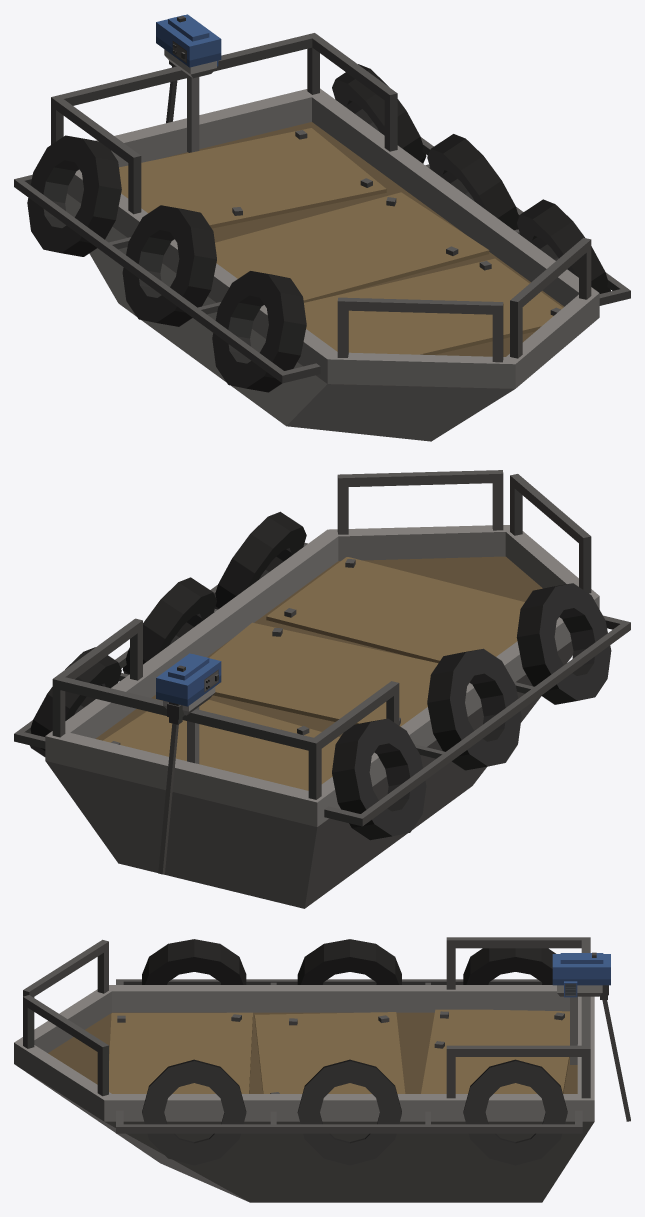
Rendered from AI_Prop_Sewer_Boat.fbx.
3 renders of one model, top to bottom at view 1: azimuth 30°, elevation 25°; view 2: azimuth 150°, elevation 25°; view 3: azimuth 270°, elevation 25°, orthographic. The views are drawn at different scales.
Parts seen in each view (by area): view 1: AI_Prop_Sewer_Boat; view 2: AI_Prop_Sewer_Boat; view 3: AI_Prop_Sewer_Boat.
Boxes of the visible parts, box(x1,y1,x2,y2) form: AI_Prop_Sewer_Boat: box(14, 14, 630, 441); AI_Prop_Sewer_Boat: box(14, 470, 630, 908); AI_Prop_Sewer_Boat: box(14, 937, 630, 1202).
Bounding box in the file's own units: 3.11 × 1.96 × 5.22.
